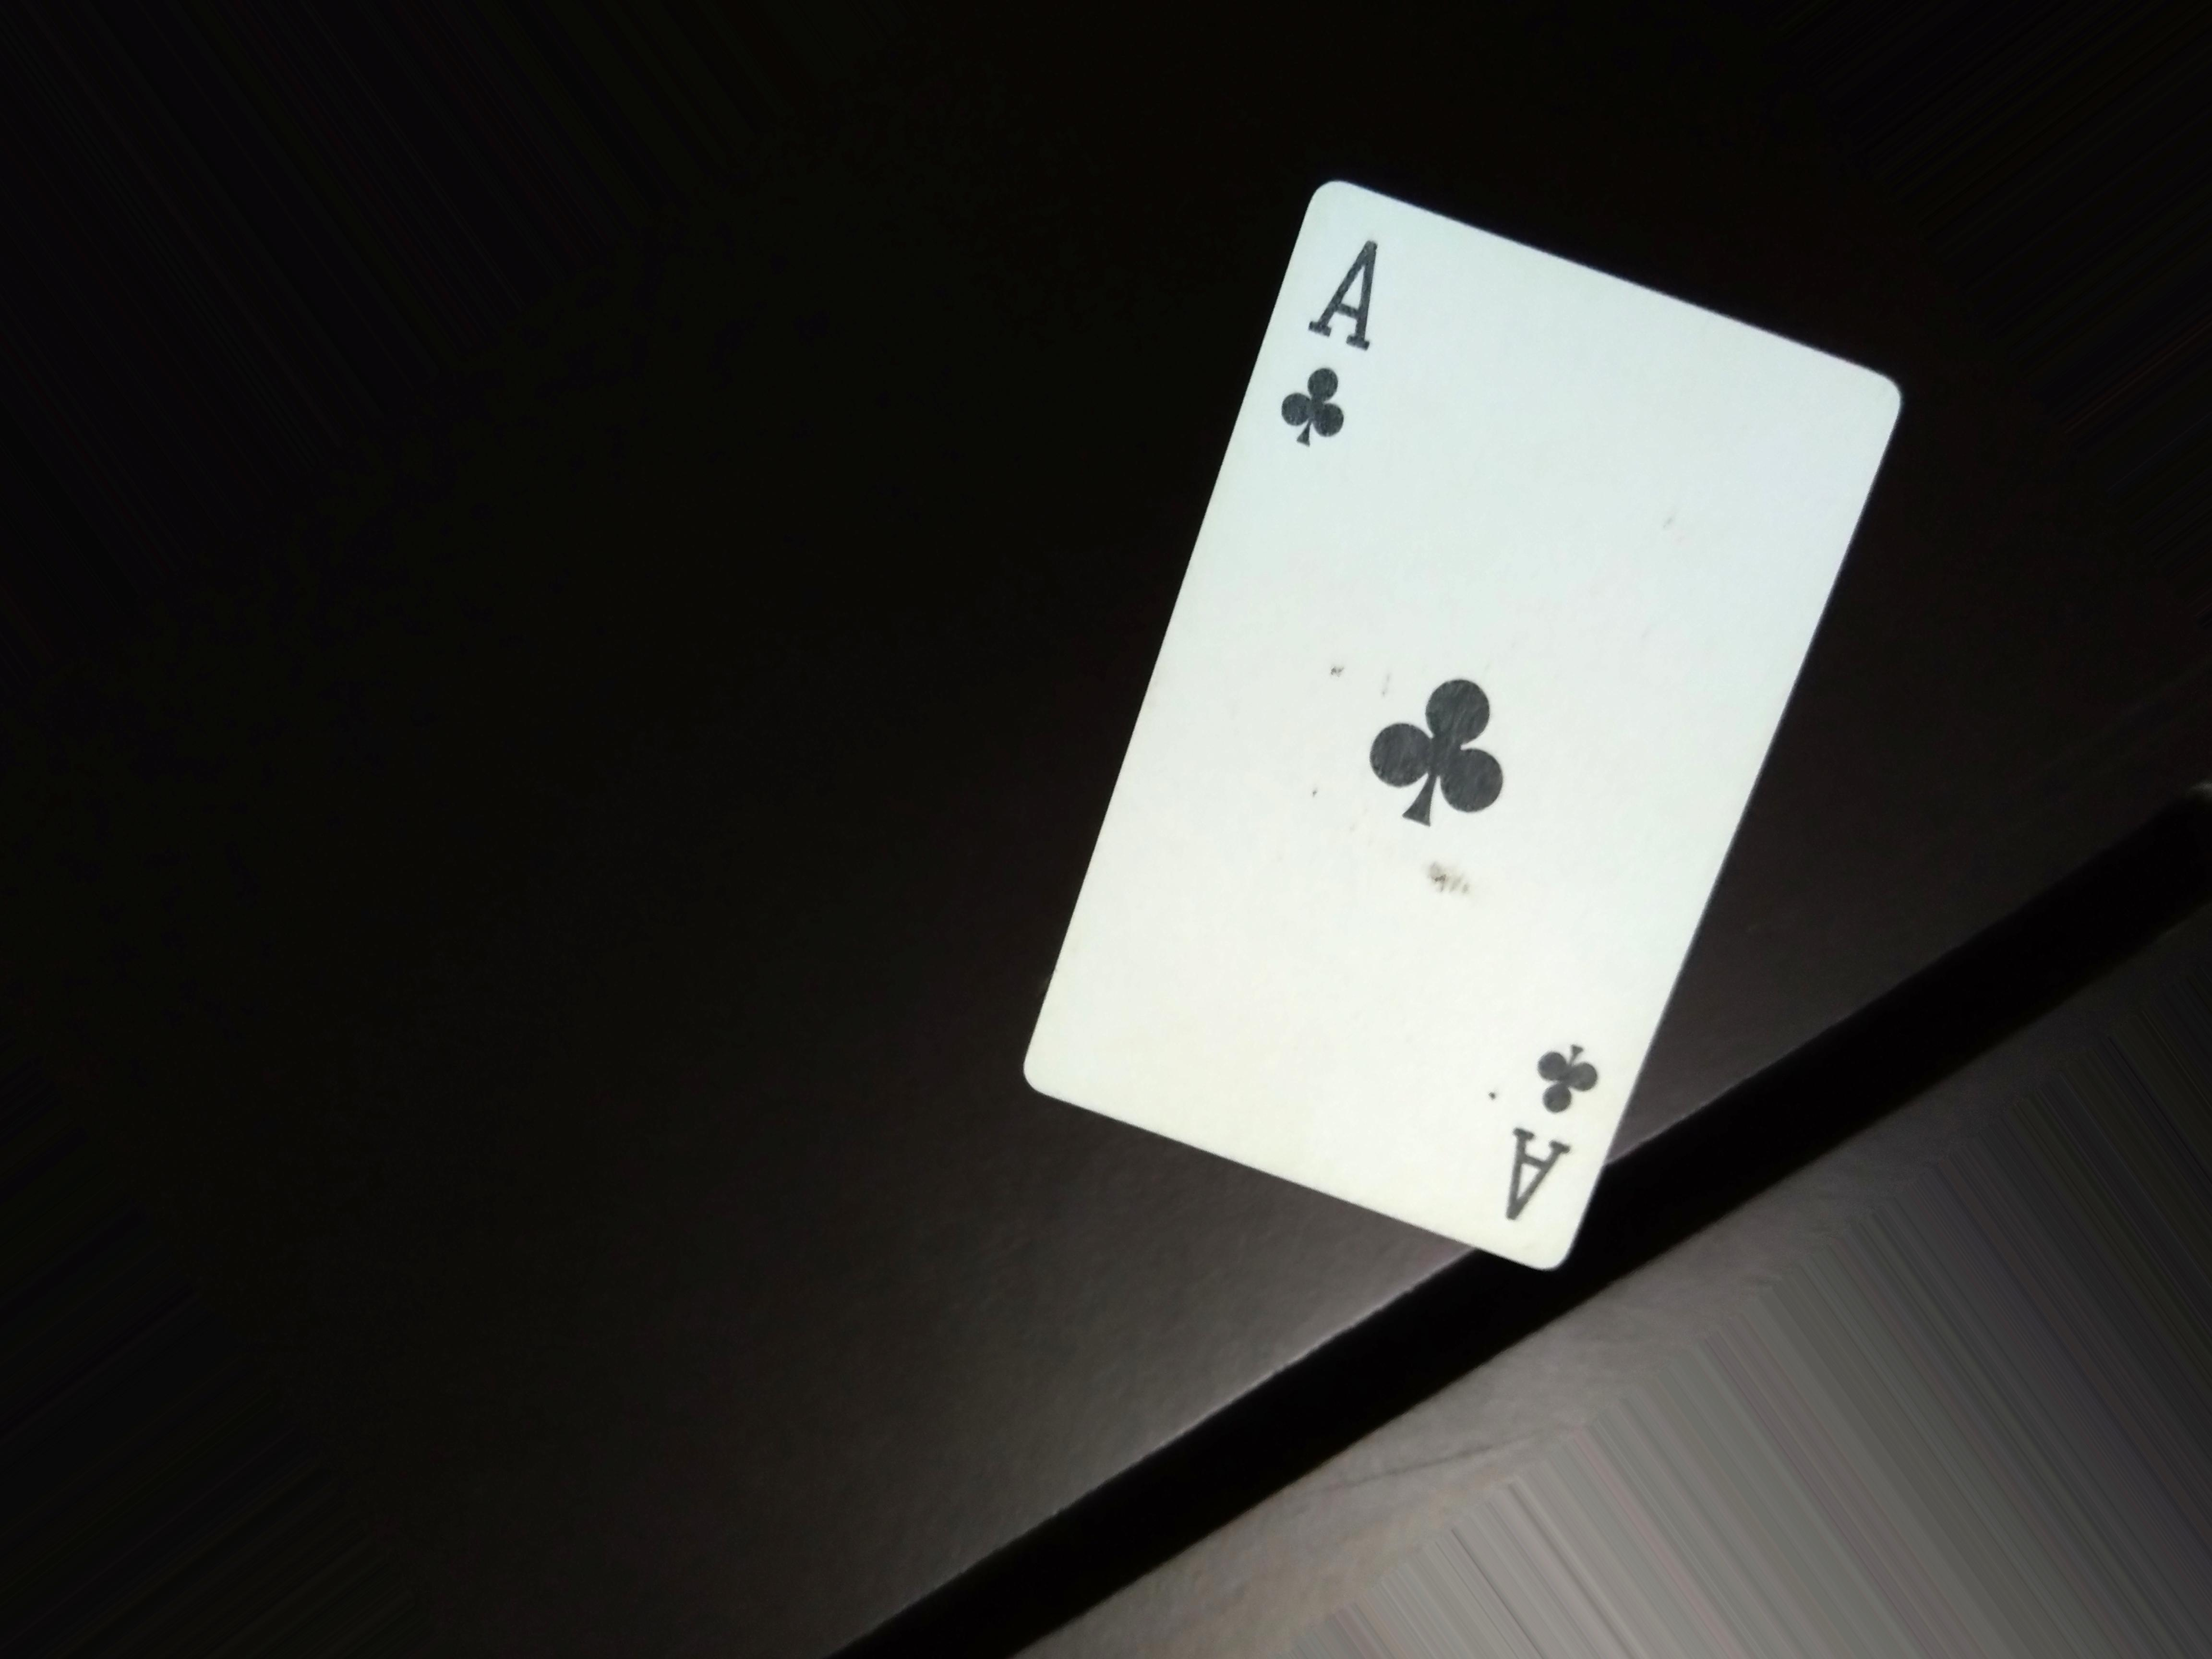AC: (1287, 230, 1390, 462)
